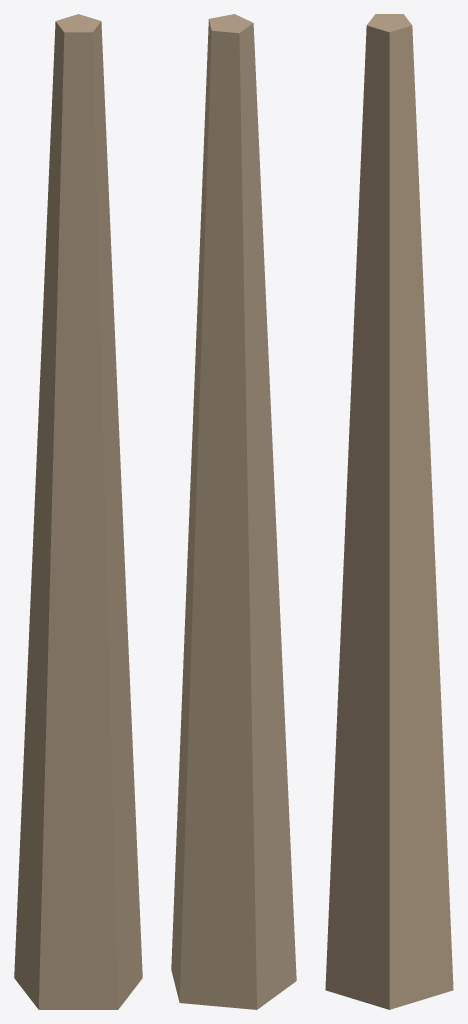
File: stake.gltf
3 views of the same model, side by side, from view 1: azimuth 90°, elevation 25°; view 2: azimuth 150°, elevation 25°; view 3: azimuth 270°, elevation 25° (orthographic).
Visible parts, largest first — view 1: stake; view 2: stake; view 3: stake.
Part boxes in pixels (x1=…): stake: x1=14, y1=14, x2=142, y2=1009; stake: x1=171, y1=14, x2=296, y2=1009; stake: x1=325, y1=14, x2=453, y2=1009.
Size of the model in its own units: 0.2533 by 2.2 by 0.2663.
